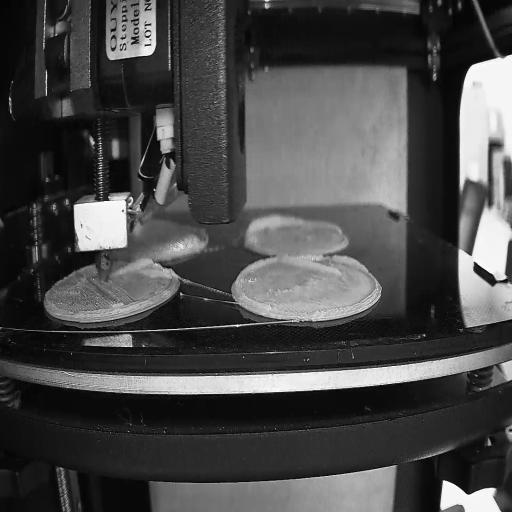over_extrusion: (281, 256, 368, 282), (236, 258, 278, 310), (243, 214, 306, 246), (113, 258, 154, 279)
